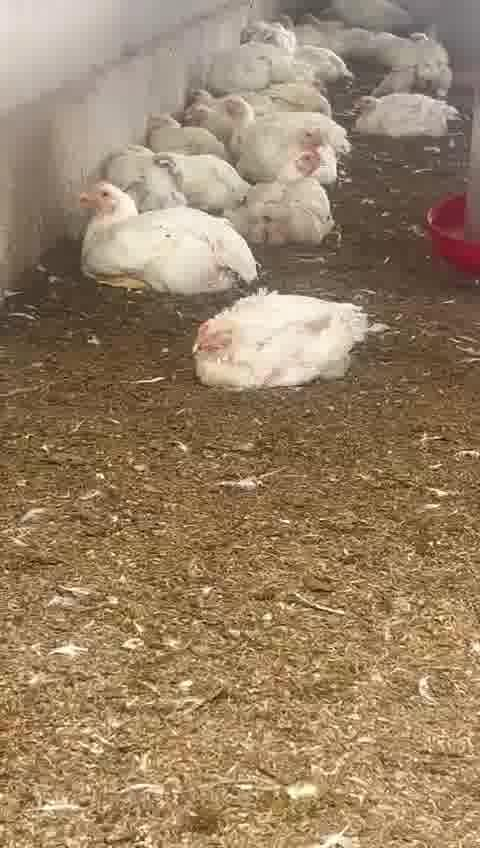AbNormal: (189, 293, 382, 398), (104, 143, 238, 202), (135, 112, 219, 166), (176, 74, 230, 126)
Normal: (77, 182, 257, 288), (242, 144, 345, 259), (339, 74, 463, 147), (221, 93, 351, 159), (236, 126, 339, 175)
